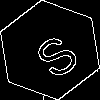S: (25, 25, 83, 82)
